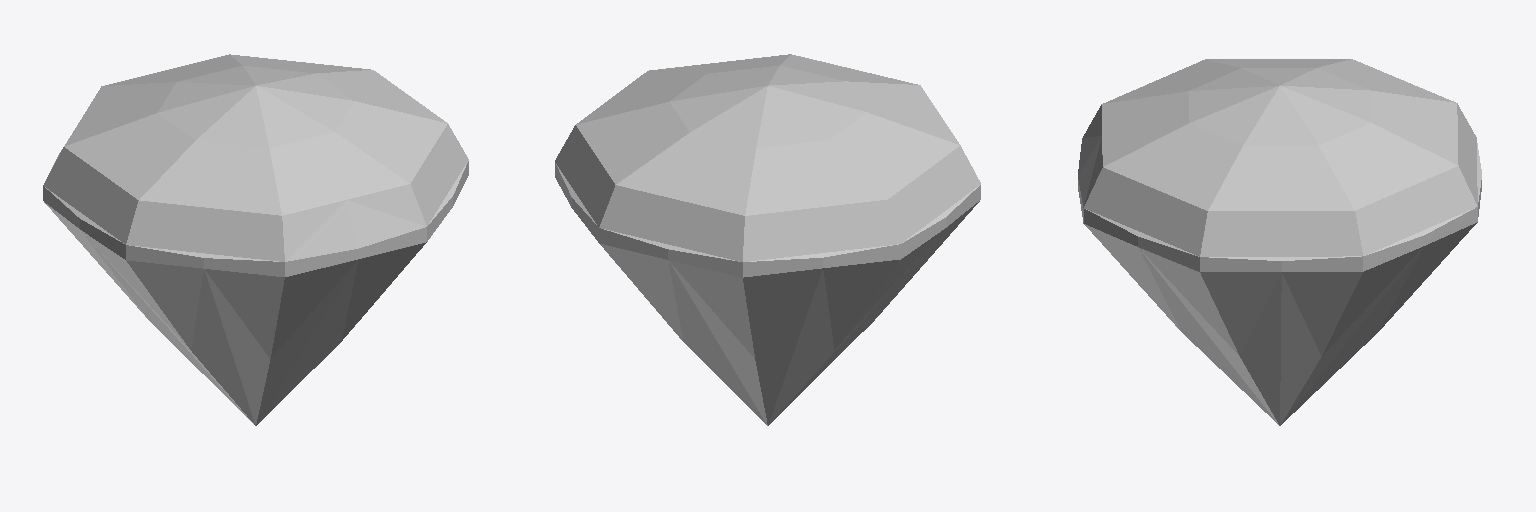
File: _diamond.obj
3 renders of one model, left to right at view 1: azimuth 30°, elevation 25°; view 2: azimuth 150°, elevation 25°; view 3: azimuth 270°, elevation 25°, orthographic.
Parts seen in each view (by area): view 1: Diamond.001; view 2: Diamond.001; view 3: Diamond.001.
Part boxes in pixels (left/top/right/bottom): Diamond.001: left=43, top=54, right=468, bottom=425; Diamond.001: left=555, top=54, right=980, bottom=425; Diamond.001: left=1078, top=59, right=1481, bottom=425.
Bounding box in the file's own units: 2.01 × 1.85 × 2.